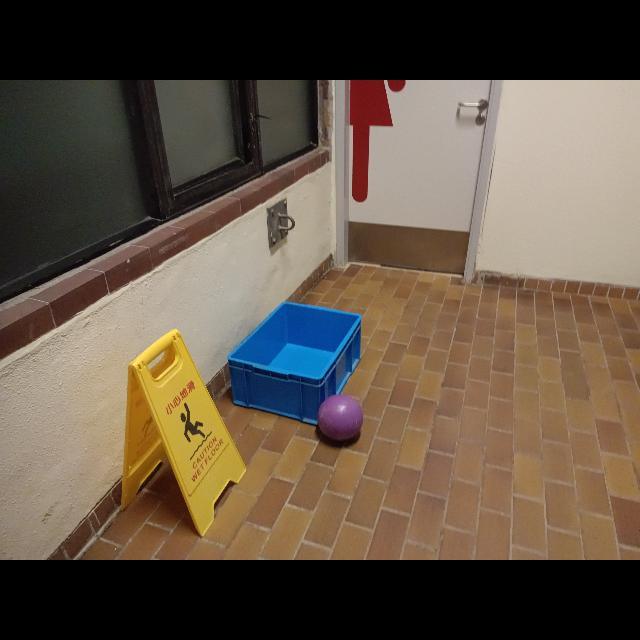P: (320, 388, 364, 440)
